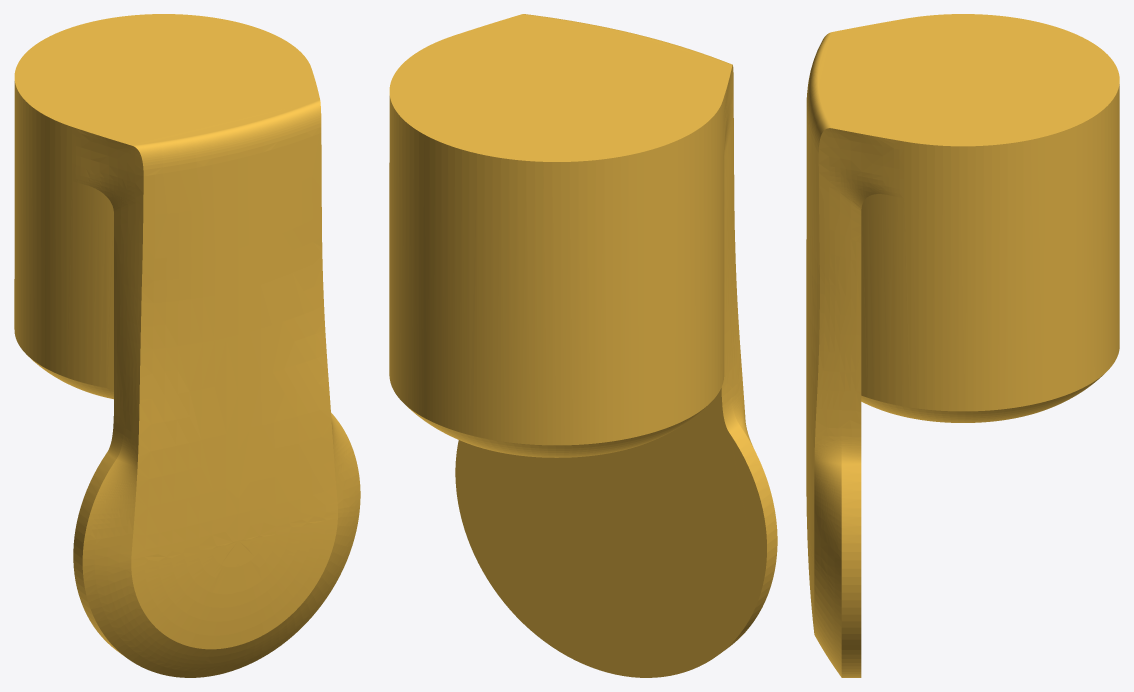
The picture shows the model from 3 angles, left to right: view 1: azimuth 30°, elevation 25°; view 2: azimuth 150°, elevation 25°; view 3: azimuth 270°, elevation 25°; orthographic projection. The views are drawn at different scales.
Parts seen in each view (by area): view 1: arml4; view 2: arml4; view 3: arml4.
Part boxes in pixels (left/top/right/bottom): arml4: left=14, top=14, right=360, bottom=677; arml4: left=389, top=14, right=777, bottom=677; arml4: left=806, top=14, right=1119, bottom=677.
Size of the model in its own units: 0.086 by 0.164 by 0.0801.
